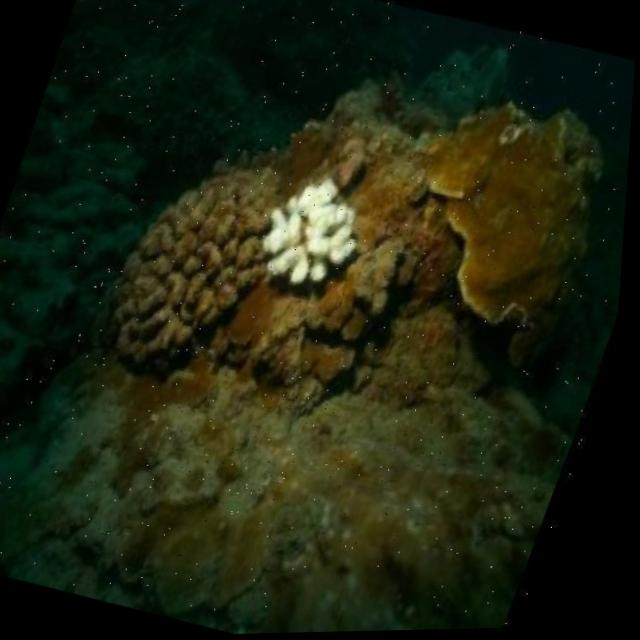Bleached Coral: (257, 167, 383, 301)
